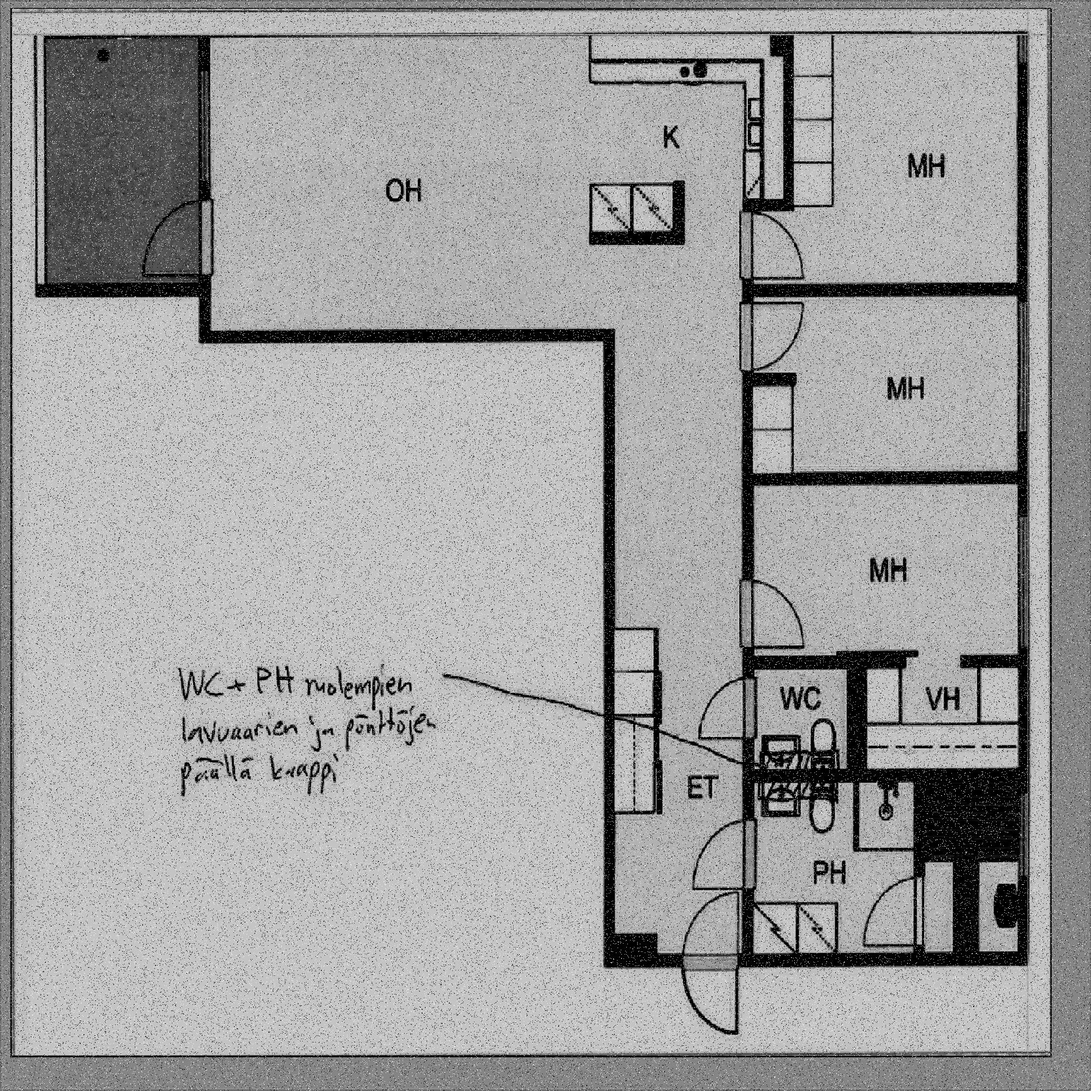wall: (200, 22, 1026, 35), (1017, 22, 1027, 967), (743, 198, 752, 967), (604, 330, 614, 967), (604, 955, 1027, 967), (200, 330, 614, 342), (743, 283, 1027, 295), (743, 474, 1027, 486), (200, 22, 210, 342), (847, 656, 866, 780), (35, 22, 200, 35), (914, 768, 924, 967), (35, 283, 200, 295), (865, 656, 1026, 668), (865, 768, 1026, 780), (783, 22, 793, 210), (742, 656, 865, 668), (742, 768, 865, 780), (589, 232, 684, 244), (614, 934, 657, 955), (743, 373, 796, 385), (674, 181, 684, 244), (743, 198, 794, 210), (770, 22, 783, 55)
